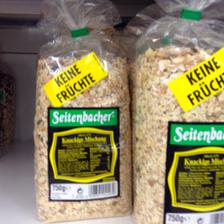Cerealien: (128, 13, 224, 221), (31, 25, 132, 219)
